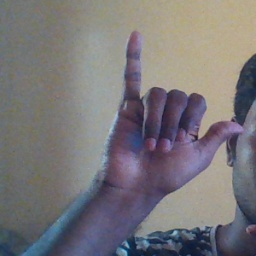J: (99, 28, 245, 184)
